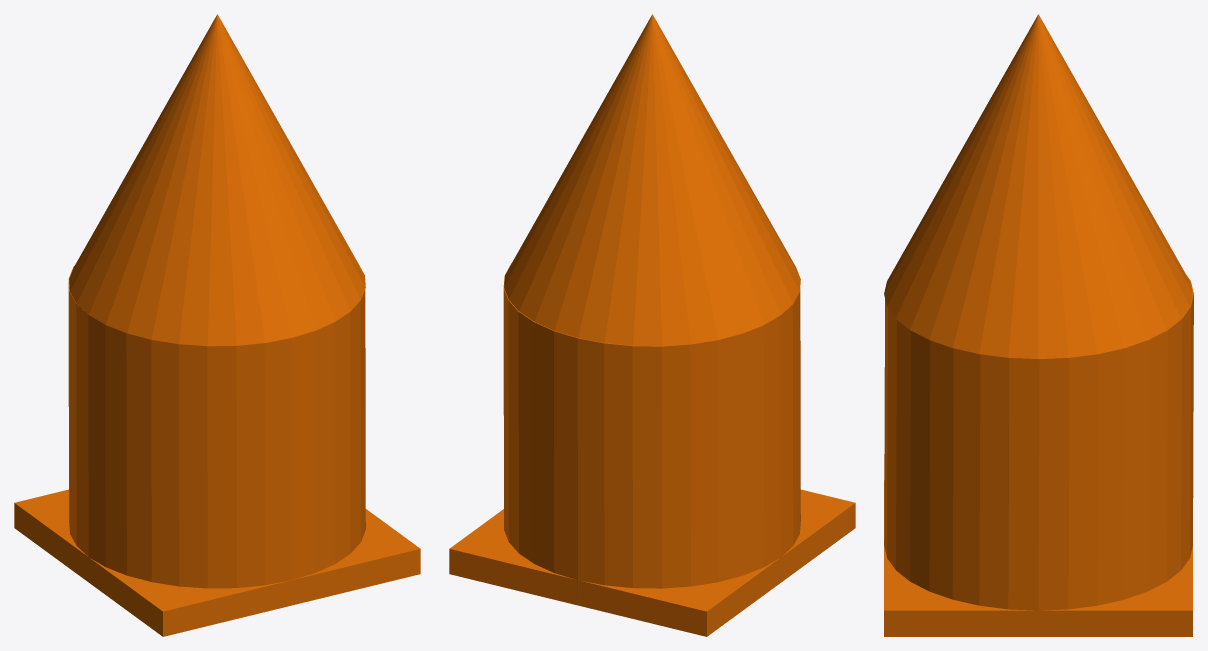
The model's file is kužel.glb.
The picture shows the model from 3 angles, left to right: view 1: azimuth 30°, elevation 25°; view 2: azimuth 150°, elevation 25°; view 3: azimuth 270°, elevation 25°; orthographic projection. The views are drawn at different scales.
Visible parts, largest first — view 1: Cube; view 2: Cube; view 3: Cube.
Boxes of the visible parts, x1,y1,x2,y2 form: Cube: (14, 14, 420, 636); Cube: (449, 14, 855, 636); Cube: (884, 14, 1193, 636).
Size of the model in its own units: 2 by 3.99 by 2.01.
